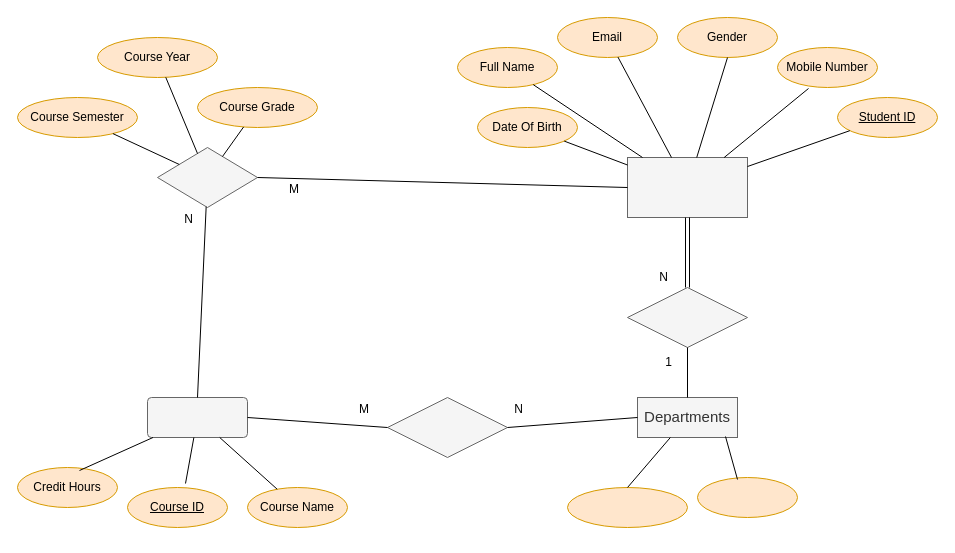
Image size: 955x553. Some labels were removed from this diagram. The shapes that lost their labels are listed below. From the top down, each one's centre as x and y in pixels, then its label:
the point at 207,177: Sign In
the point at 687,187: Students
the point at 687,317: Enroll
the point at 197,417: Courses
the point at 447,427: Have
the point at 627,507: Department Name
the point at 747,497: Department ID
